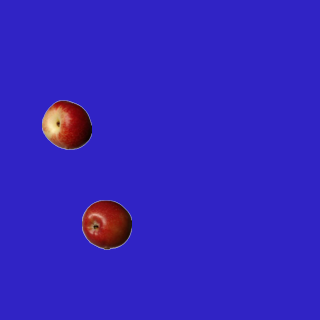Apple Braeburn: (81, 199, 131, 249)
Nectarine: (41, 99, 91, 149)
